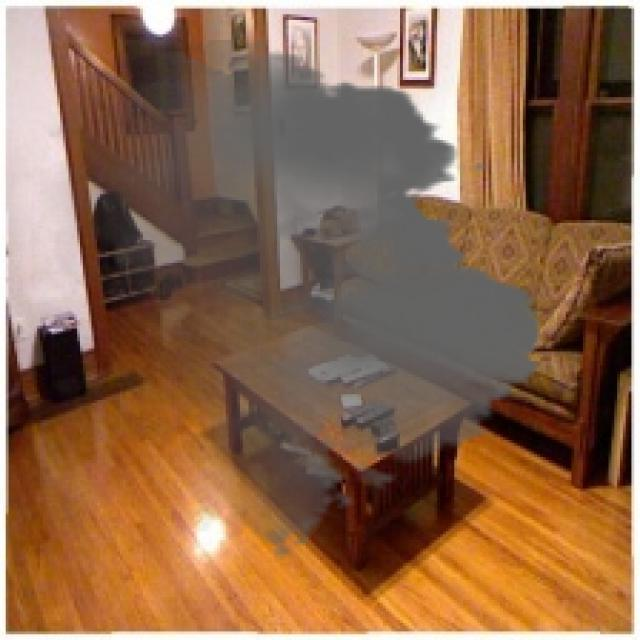Smoke: (31, 40, 560, 560)
